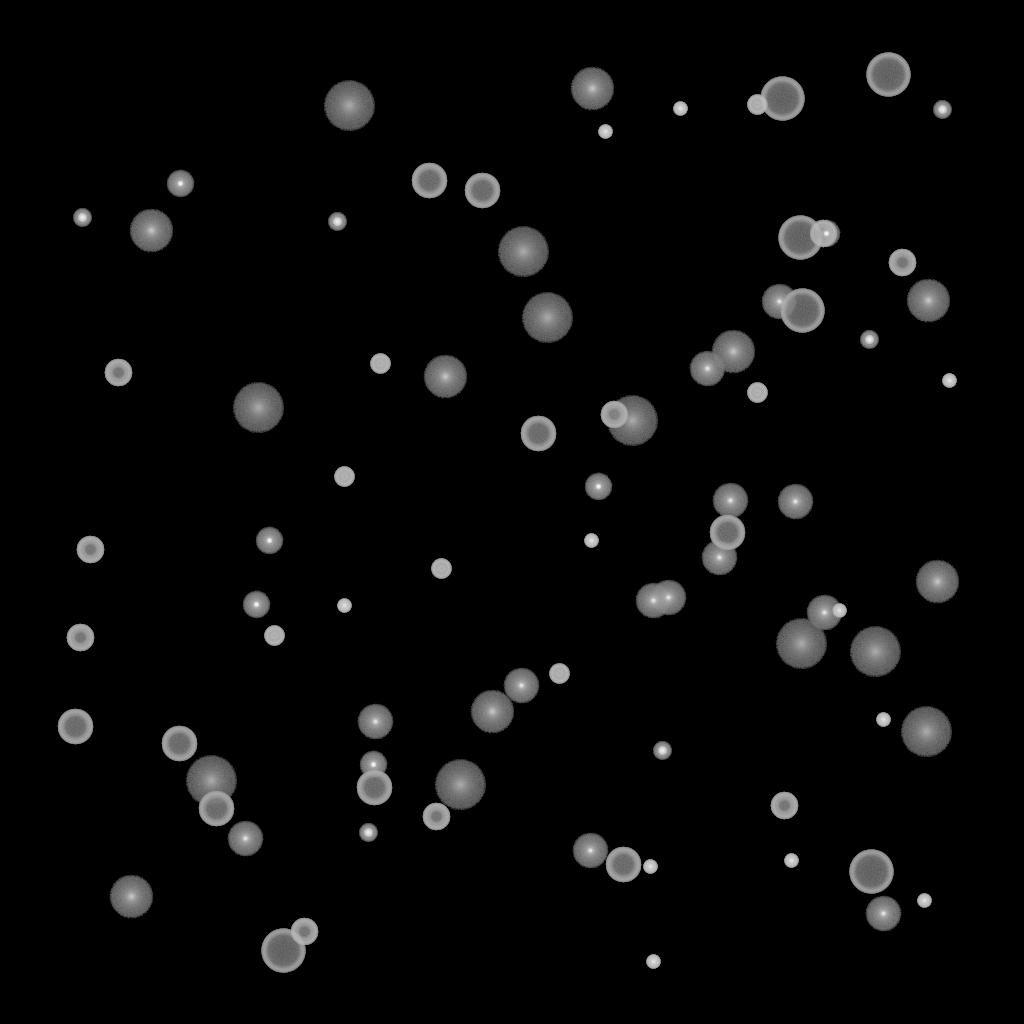depth:-10: (242, 591, 270, 619), (359, 751, 387, 779), (255, 527, 283, 555), (166, 170, 194, 198), (584, 473, 612, 501), (812, 220, 840, 248)
depth:-20: (359, 824, 377, 842), (653, 742, 671, 760), (73, 209, 91, 227), (860, 331, 878, 349), (328, 213, 346, 231), (933, 101, 951, 119)
depth:-30: (876, 713, 890, 727), (832, 604, 846, 618), (784, 854, 798, 868), (337, 599, 351, 613), (673, 102, 687, 116), (646, 955, 660, 969), (584, 534, 598, 548), (942, 374, 956, 388), (643, 860, 657, 874), (598, 125, 612, 139), (917, 894, 931, 908)
depth:-40: (549, 664, 569, 684), (370, 354, 390, 374), (334, 467, 354, 487), (431, 559, 451, 579), (747, 95, 767, 115), (264, 626, 284, 646), (747, 383, 767, 403)
depth:-50: (66, 624, 94, 652), (770, 792, 798, 820), (809, 220, 837, 248), (888, 249, 916, 277), (422, 803, 450, 831), (290, 918, 318, 946), (104, 359, 132, 387), (600, 401, 628, 429), (76, 536, 104, 564)
depth:-60: (411, 163, 447, 199), (464, 173, 500, 209), (520, 416, 556, 452), (605, 847, 641, 883), (161, 726, 197, 762), (198, 791, 234, 827), (57, 709, 93, 745), (356, 770, 392, 806), (709, 515, 745, 551)
depth:-70: (760, 77, 804, 121), (261, 929, 305, 973), (778, 216, 822, 260), (780, 289, 824, 333), (849, 850, 893, 894), (866, 53, 910, 97)
depth:0: (357, 704, 393, 740), (761, 284, 797, 320), (865, 896, 901, 932), (503, 668, 539, 704), (635, 583, 671, 619), (701, 540, 737, 576), (227, 821, 263, 857), (712, 483, 748, 519), (650, 580, 686, 616), (806, 595, 842, 631), (777, 484, 813, 520), (689, 351, 725, 387), (572, 833, 608, 869)
depth:10: (423, 355, 467, 399), (906, 279, 950, 323), (711, 330, 755, 374), (570, 67, 614, 111), (470, 690, 514, 734), (915, 560, 959, 604), (129, 209, 173, 253), (109, 875, 153, 919)
depth:20: (232, 383, 284, 433), (497, 227, 549, 277), (775, 619, 827, 669), (434, 760, 486, 810), (521, 293, 573, 343), (900, 707, 952, 757), (185, 756, 237, 806), (606, 396, 658, 446), (849, 627, 901, 677), (323, 81, 375, 131)
